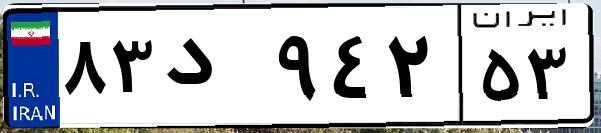2: (385, 28, 445, 110)
3: (525, 38, 570, 115), (110, 28, 158, 98)
4: (330, 28, 385, 110)
5: (475, 38, 525, 113)
8: (57, 26, 110, 100)
9: (270, 28, 330, 110)
د: (158, 20, 270, 120)
